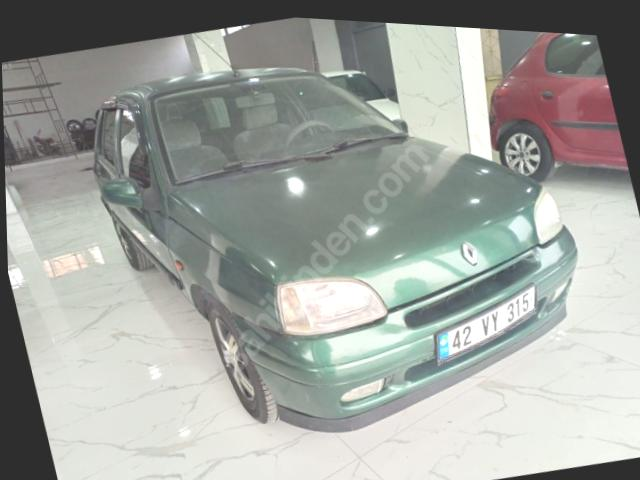plaka: (435, 285, 536, 364)
